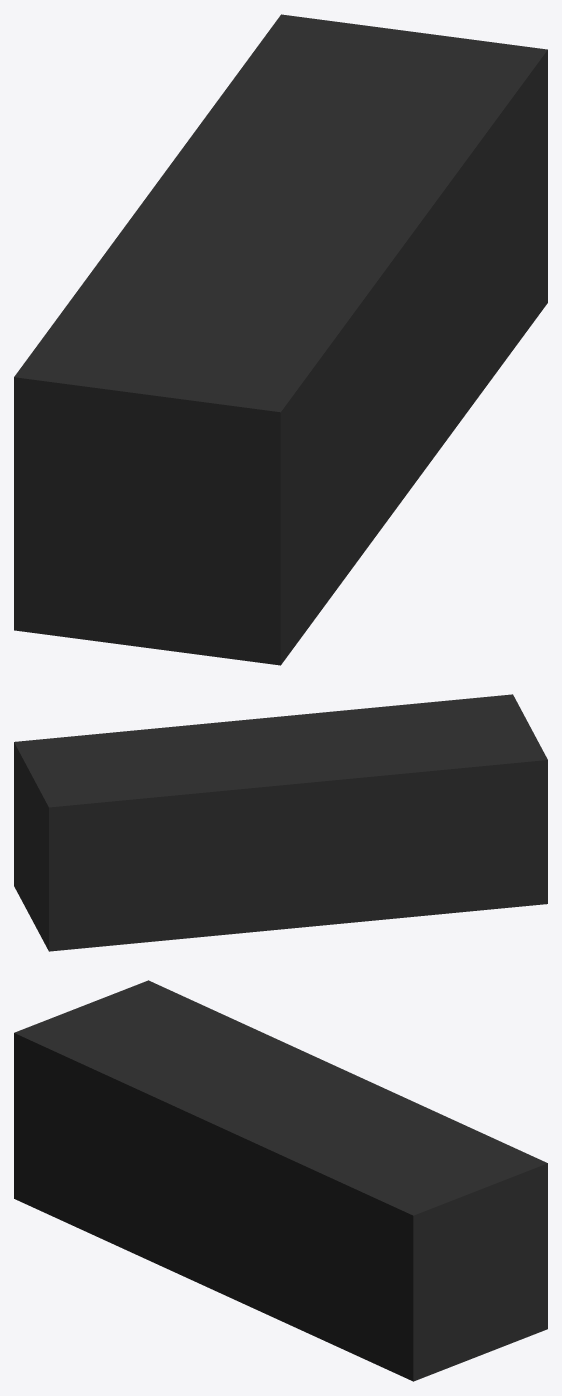
The model's file is main_frame__front_down_strut.glb.
3 renders of one model, top to bottom at view 1: azimuth 30°, elevation 25°; view 2: azimuth 150°, elevation 25°; view 3: azimuth 270°, elevation 25°, orthographic. The views are drawn at different scales.
Visible parts, largest first — view 1: world; view 2: world; view 3: world.
Boxes of the visible parts, box(x1,y1,x2,y2) form: world: box(14, 14, 547, 665); world: box(14, 694, 547, 951); world: box(14, 980, 547, 1381).
Bounding box in the file's own units: 0.1673 × 0.055 × 0.1604.
Materials: 1 (1 with a texture image).
